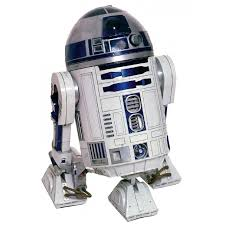r2d2: (41, 5, 182, 223)
